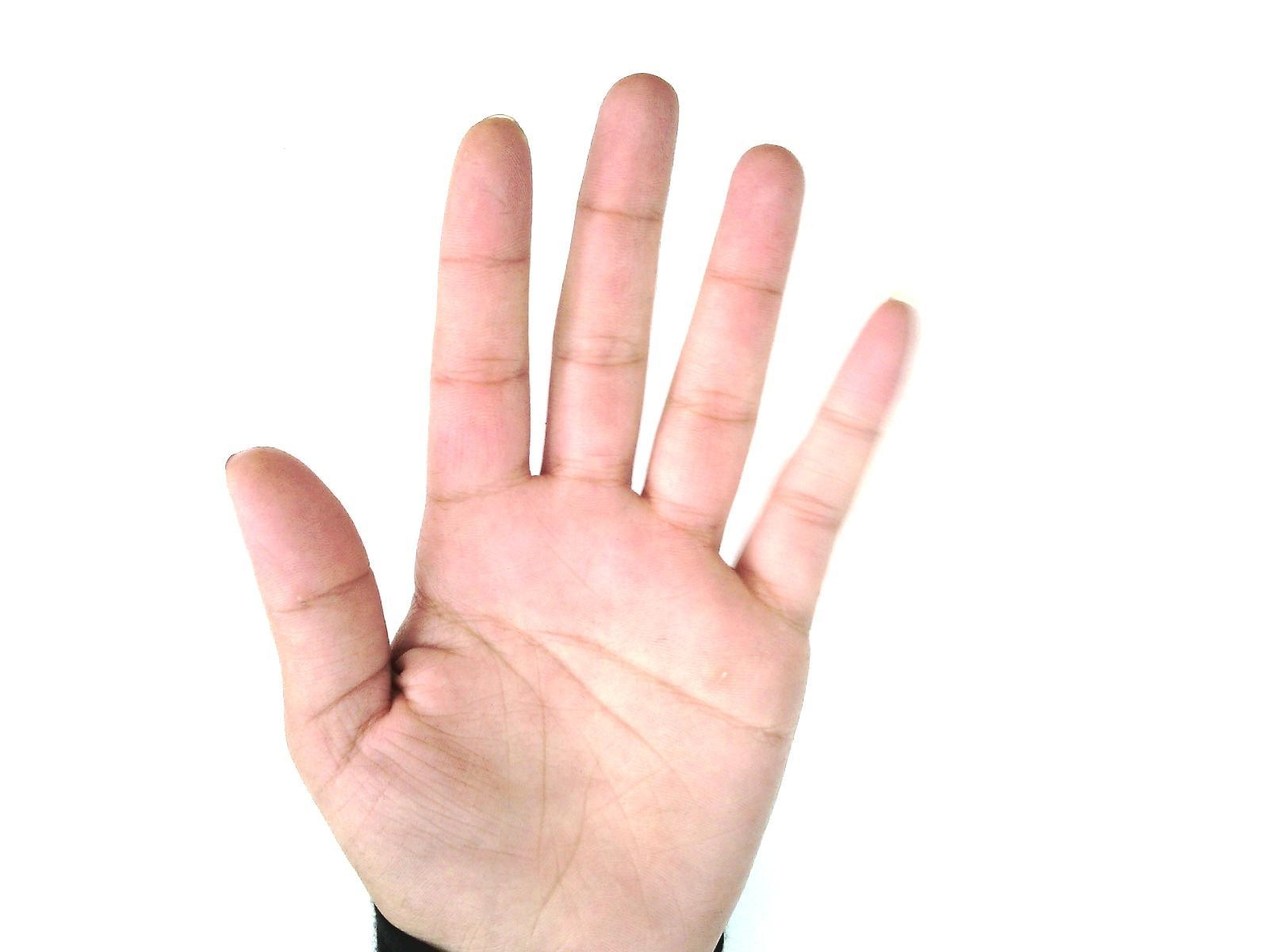open_palm: (223, 71, 923, 951)
